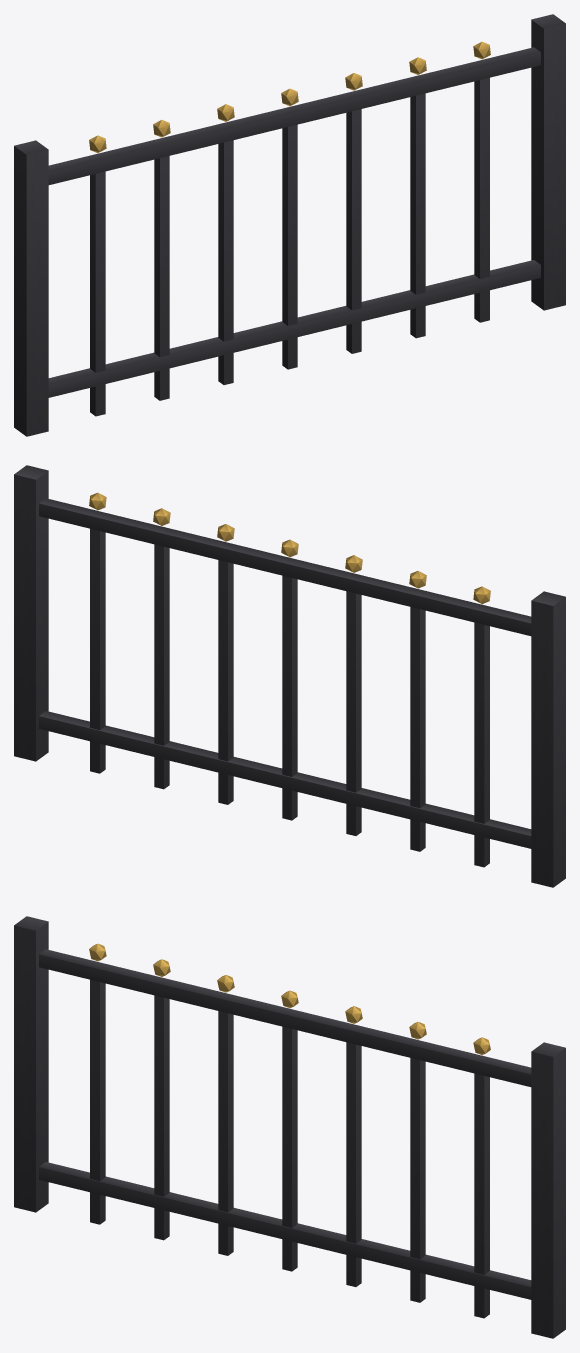
The model's file is railing_iron_01.glb.
3 renders of one model, top to bottom at view 1: azimuth 30°, elevation 25°; view 2: azimuth 150°, elevation 25°; view 3: azimuth 330°, elevation 25°, orthographic.
Parts seen in each view (by area): view 1: railing_iron_01; view 2: railing_iron_01; view 3: railing_iron_01.
Boxes of the visible parts, left/top/right/bottom form: railing_iron_01: left=14, top=14, right=565, bottom=436; railing_iron_01: left=14, top=465, right=565, bottom=887; railing_iron_01: left=14, top=916, right=565, bottom=1338.
Bounding box in the file's own units: 2.2 × 1.1 × 0.09.
Materials: 1 (1 with a texture image).
